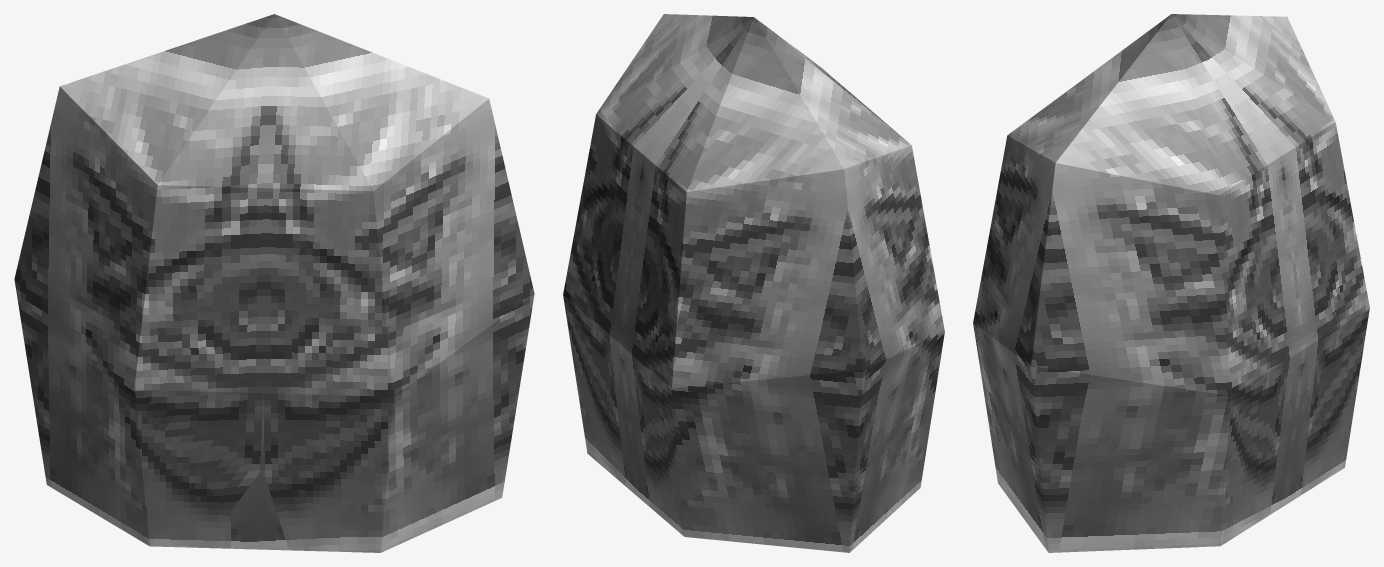
Rendered from sheika.fbx.
The picture shows the model from 3 angles, left to right: view 1: azimuth 30°, elevation 25°; view 2: azimuth 150°, elevation 25°; view 3: azimuth 270°, elevation 25°; orthographic projection. The views are drawn at different scales.
Visible parts, largest first — view 1: Gossip Stone; view 2: Gossip Stone; view 3: Gossip Stone.
Part boxes in pixels (bbox=[...]): Gossip Stone: bbox=[14, 14, 534, 552]; Gossip Stone: bbox=[563, 14, 944, 552]; Gossip Stone: bbox=[973, 14, 1369, 552].
Size of the model in its own units: 1.34 by 1.63 by 1.27.
Materials: 1 (1 with a texture image).
